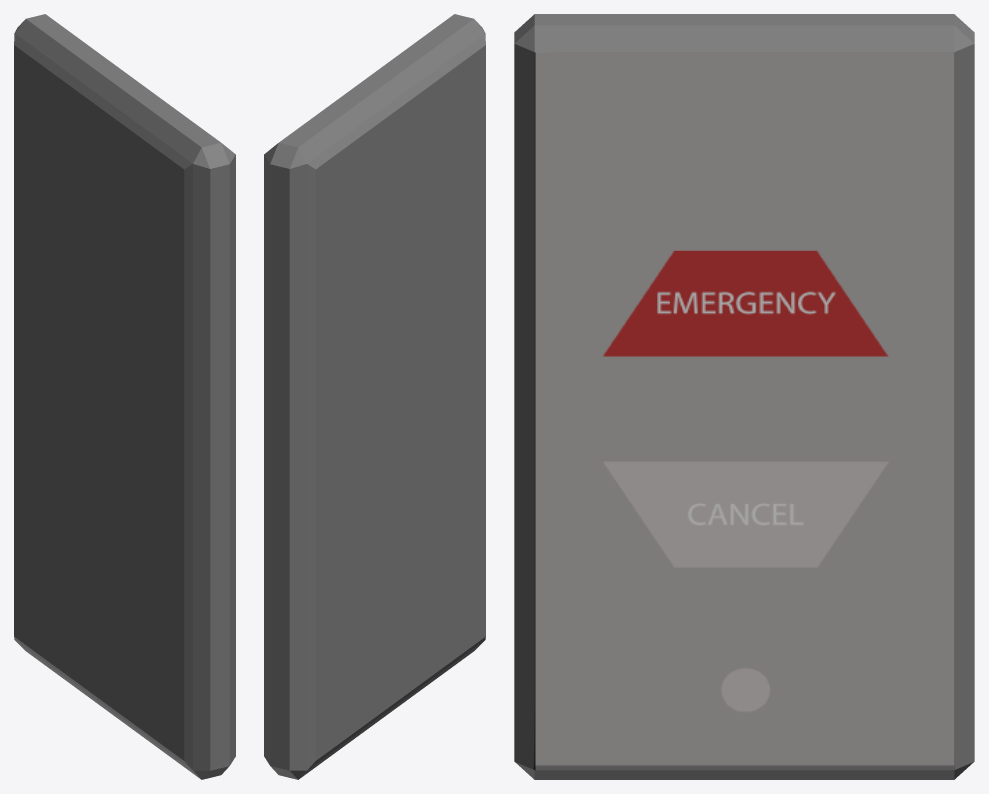
The model's file is Emergency Button.fbx.
3 renders of one model, left to right at view 1: azimuth 30°, elevation 25°; view 2: azimuth 150°, elevation 25°; view 3: azimuth 270°, elevation 25°, orthographic. The views are drawn at different scales.
Visible parts, largest first — view 1: Cube; view 2: Cube; view 3: Cube.
Part boxes in pixels (x1,y1,x2,y2): Cube: [14, 14, 235, 779]; Cube: [264, 14, 485, 779]; Cube: [514, 14, 974, 779].
Size of the model in its own units: 1.4 by 17.29 by 9.55.
Materials: 1 (1 with a texture image).
